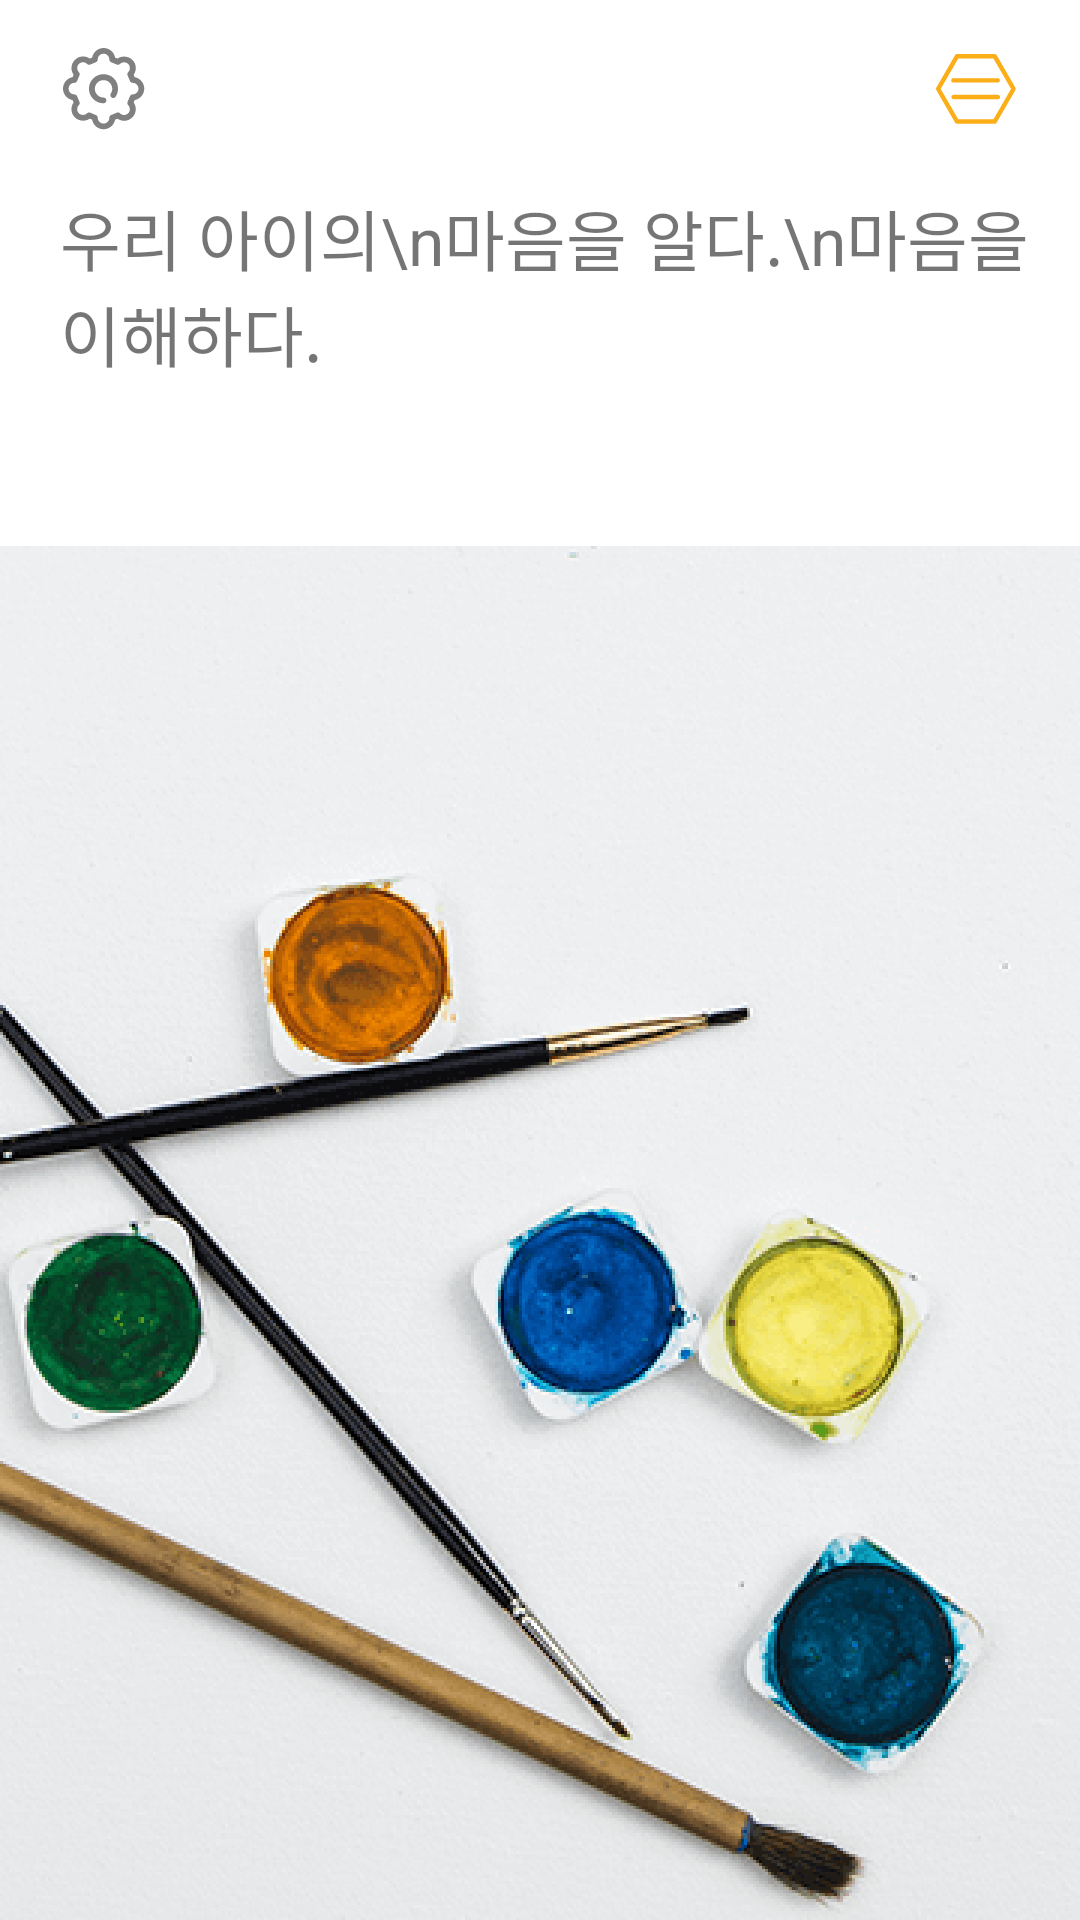

Named icons in this screenshot (1080 x 1920) and their centers, [x,y]:
setting: [104,89]
